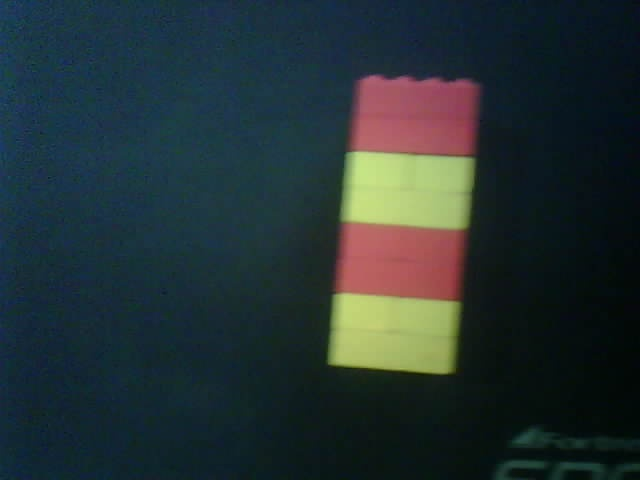lego: (326, 73, 480, 378)
